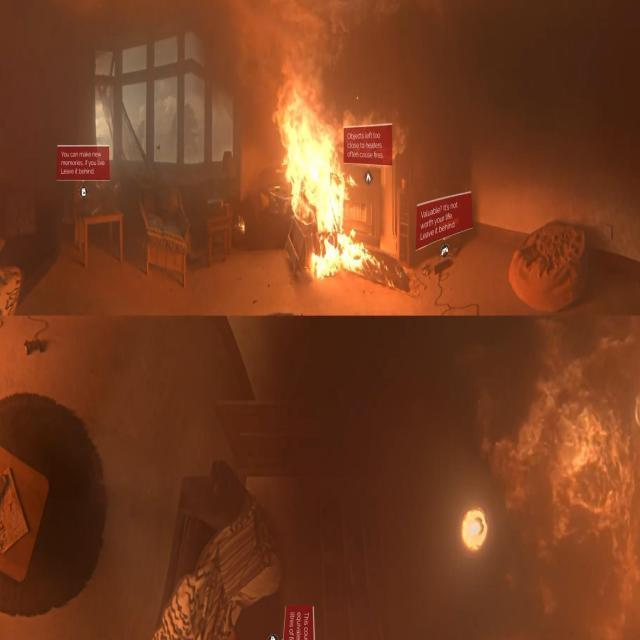smoke: (494, 345, 640, 640), (271, 70, 381, 284)
